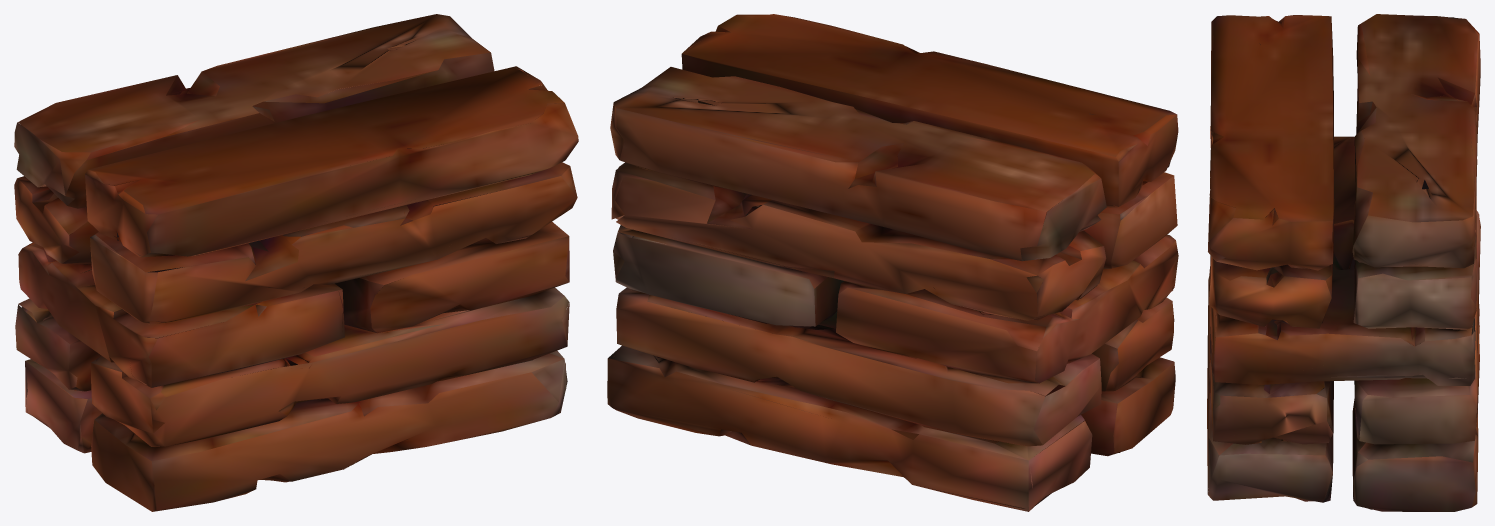
The model's file is ladrillos.movil.glb.
3 renders of one model, left to right at view 1: azimuth 30°, elevation 25°; view 2: azimuth 150°, elevation 25°; view 3: azimuth 270°, elevation 25°, orthographic. The views are drawn at different scales.
Parts seen in each view (by area): view 1: geometry_0; view 2: geometry_0; view 3: geometry_0.
Boxes of the visible parts, x1,y1,x2,y2 form: geometry_0: (14,14,578,511); geometry_0: (607,14,1178,511); geometry_0: (1207,14,1480,511).
Bounding box in the file's own units: 0.8967 × 0.5999 × 0.4981.
Materials: 1 (1 with a texture image).
